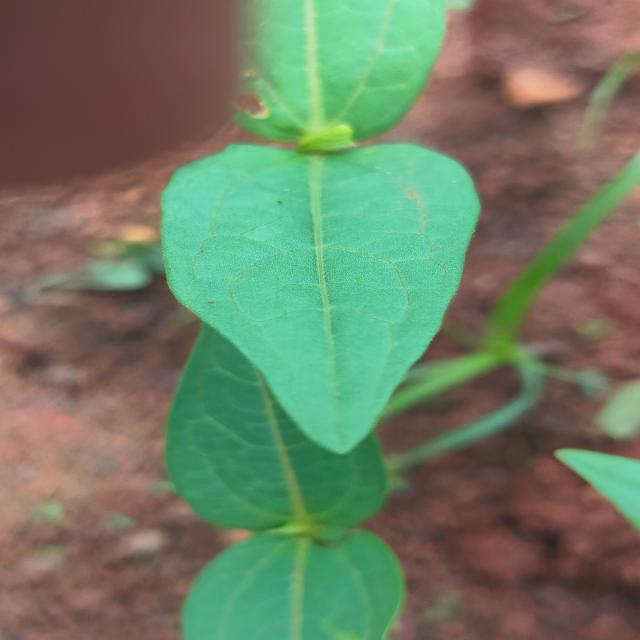Black gram_healthy: (162, 141, 486, 448), (156, 320, 388, 528), (196, 0, 455, 138), (179, 530, 406, 640)
